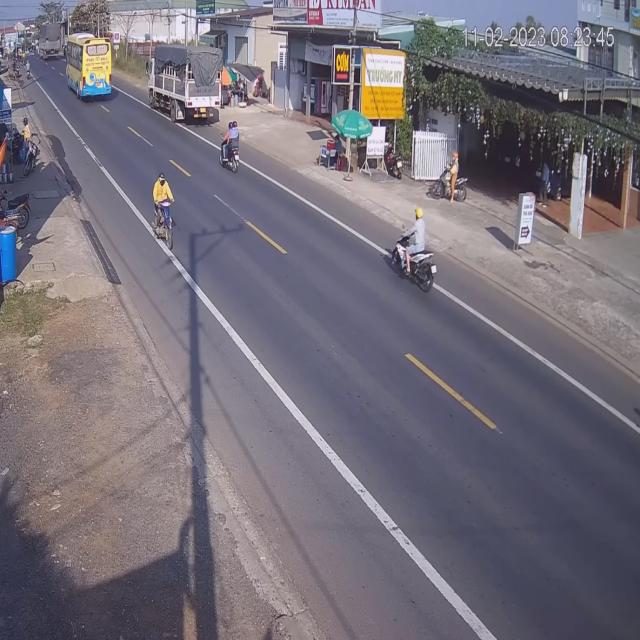bus: (65, 39, 112, 104)
motorbike: (389, 203, 438, 294), (150, 174, 173, 254), (218, 118, 240, 175)
truck: (151, 45, 222, 126), (39, 20, 63, 60)
